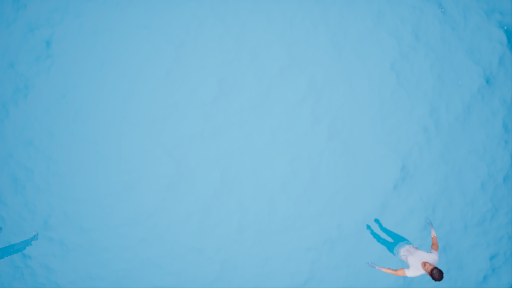person: (357, 210, 455, 281)
